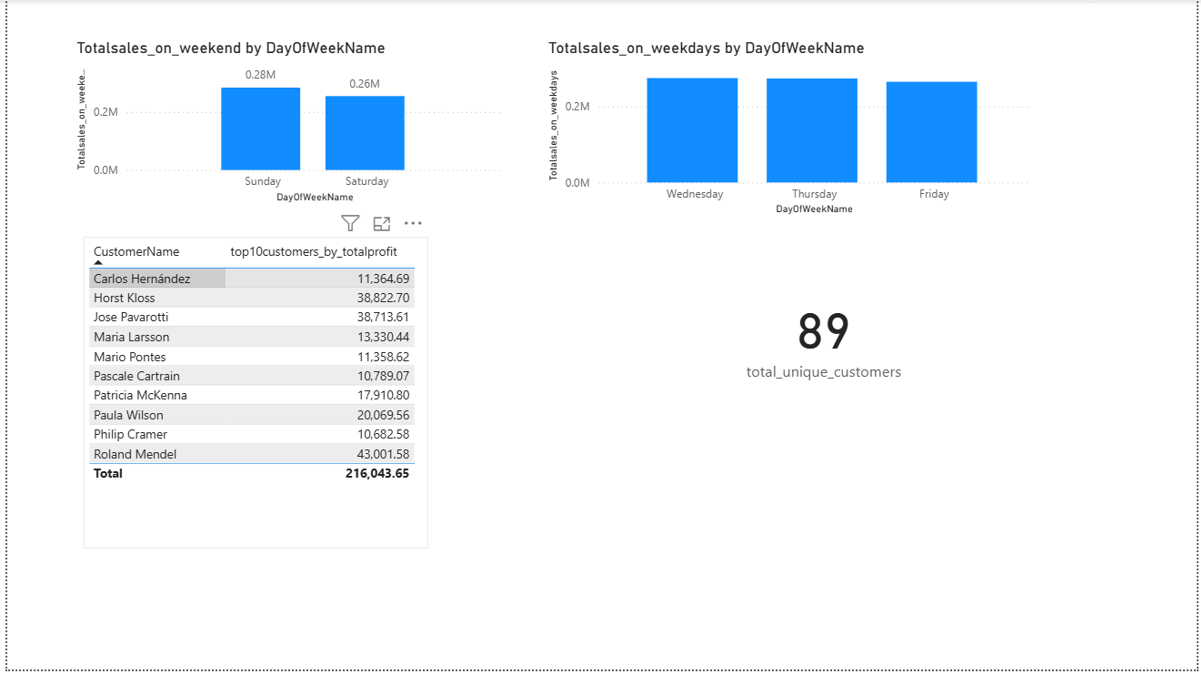

The dashboard page shown, as its layout file describes it:
{"tool":"powerbi","page":{"name":"Customer Contribution Analysis","canvas":[1280,720],"ordinal":3},"visuals":[{"type":"clusteredColumnChart","fields":{"Y":["Measures_tbl.Totalsales_on_weekend"],"Category":["Dates_tbl.DayOfWeekName"]},"box":[69.7,40.4,468.3,182.2],"z":0},{"type":"clusteredColumnChart","fields":{"Y":["Measures_tbl.Totalsales_on_weekdays"],"Category":["Dates_tbl.DayOfWeekName"]},"box":[577.2,40.4,528.3,195.7],"z":1000},{"type":"card","fields":{"Values":["Measures_tbl.total_unique_customers"]},"box":[745.9,298.4,265.4,123.5],"z":2000},{"type":"tableEx","fields":{"Values":["Order_tbl.CustomerName","Measures_tbl.top10customers_by_totalprofit"]},"box":[81.9,254.3,370.5,335.1],"z":3000}]}

Visuals, with their boxes in screenshot pixels (x1, y1, x2, y2), scaled from the page's 1280x720 canvas onto the 1201x673 screenshot:
clusteredColumnChart - Measures_tbl.Totalsales_on_weekend x Dates_tbl.DayOfWeekName: (65, 38, 505, 208)
clusteredColumnChart - Measures_tbl.Totalsales_on_weekdays x Dates_tbl.DayOfWeekName: (542, 38, 1037, 221)
card - Measures_tbl.total_unique_customers: (700, 279, 949, 394)
tableEx - Order_tbl.CustomerName x Measures_tbl.top10customers_by_totalprofit: (77, 238, 424, 551)
